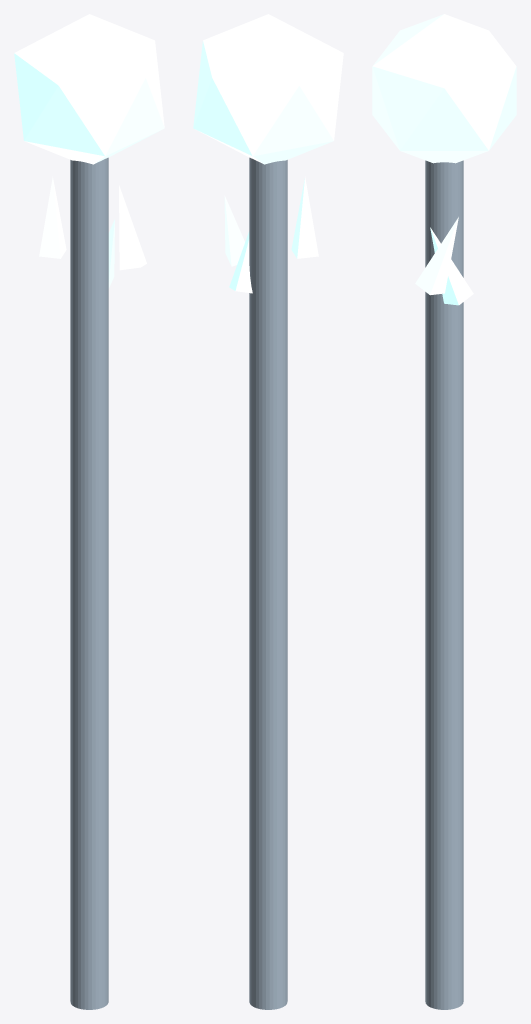
Rendered from ice_staff.glb.
3 views of the same model, side by side, from view 1: azimuth 30°, elevation 25°; view 2: azimuth 150°, elevation 25°; view 3: azimuth 270°, elevation 25° (orthographic).
Parts seen in each view (by area): view 1: Shaft, Crystal, Shard0, Shard1, Shard2; view 2: Shaft, Crystal, Shard1, Shard0, Shard2; view 3: Shaft, Crystal, Shard0, Shard2.
Boxes of the visible parts, x1,y1,x2,y2 form: Shaft: (70,157,108,1009); Crystal: (14,14,164,164); Shard0: (119,185,146,270); Shard1: (39,176,66,258); Shard2: (108,219,114,288); Shaft: (249,157,287,1009); Crystal: (193,14,343,164); Shard1: (291,176,318,258); Shard0: (224,195,244,266); Shard2: (229,231,252,293); Shaft: (425,160,463,1009); Crystal: (372,14,516,163); Shard0: (415,217,458,295); Shard2: (430,227,473,305).
Size of the model in its own units: 0.1431 by 1.03 by 0.1361.
